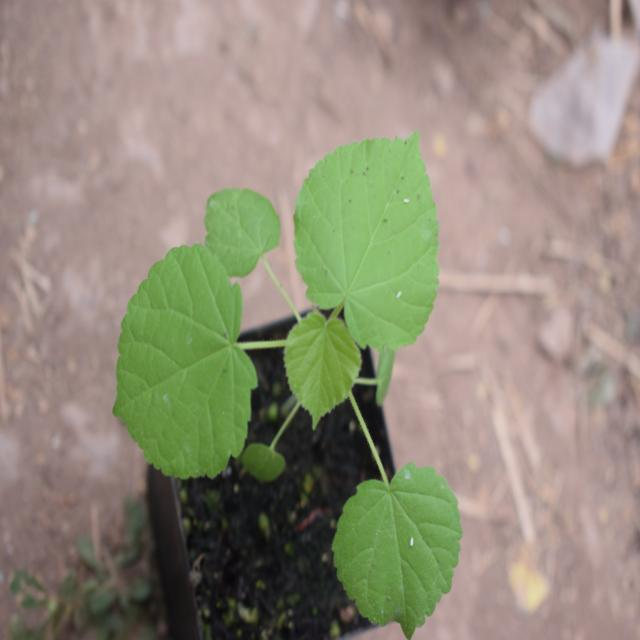abutilon theophrasti: (110, 124, 470, 616)
